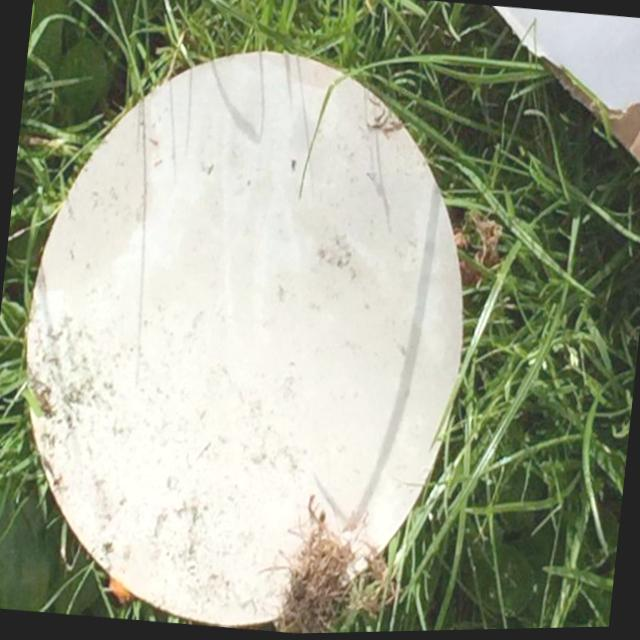Paper: (0, 20, 493, 640)
